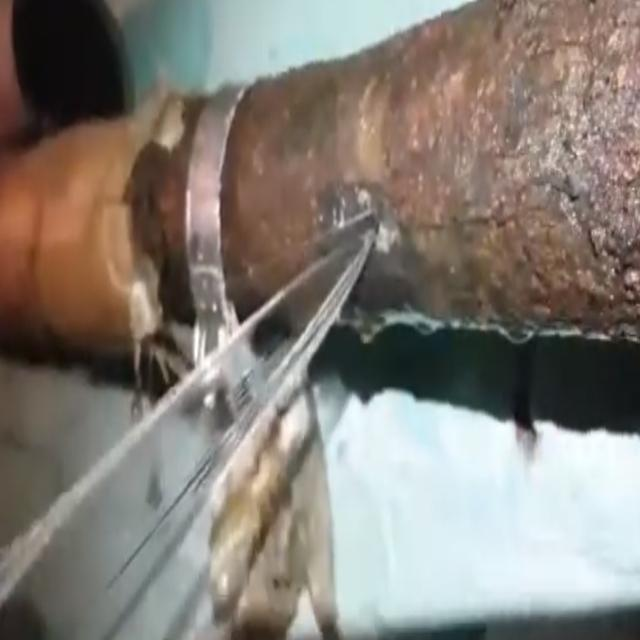leak: (0, 216, 375, 636)
